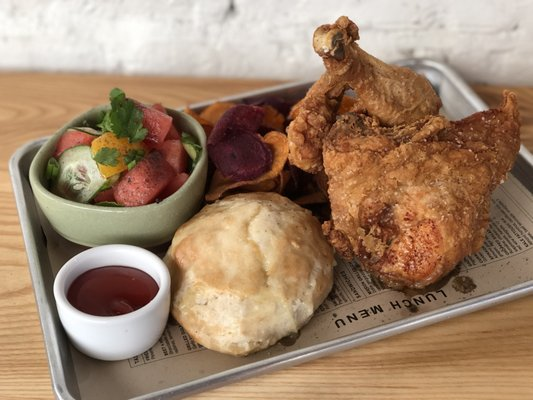sushi: (29, 88, 209, 249), (53, 243, 172, 361)
